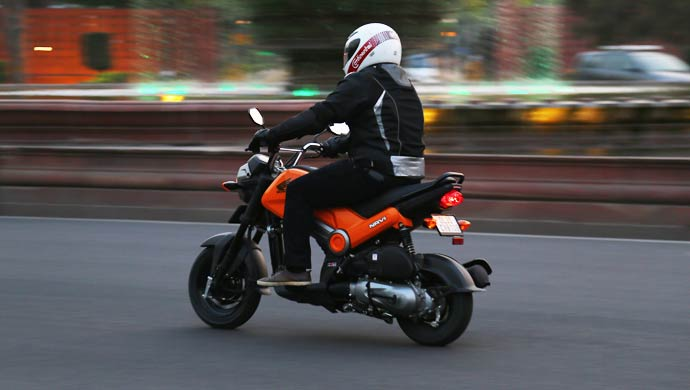with_helmet: (338, 20, 409, 83)
